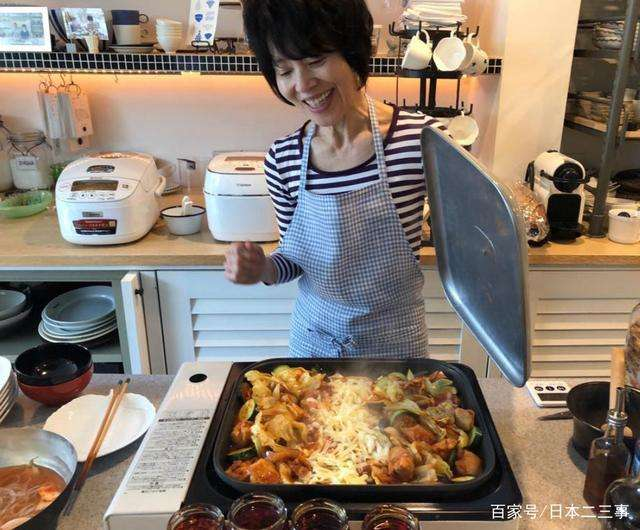no_mask: (233, 2, 374, 125)
